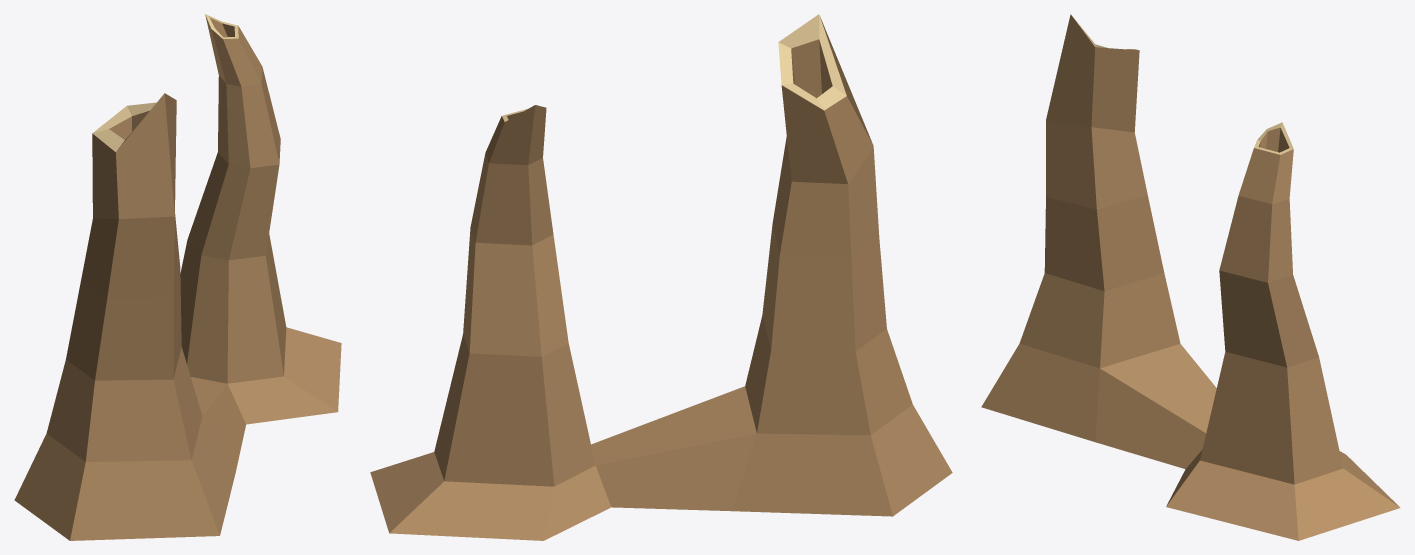
Rendered from biome-rock03.fbx.
The picture shows the model from 3 angles, left to right: view 1: azimuth 30°, elevation 25°; view 2: azimuth 150°, elevation 25°; view 3: azimuth 270°, elevation 25°; orthographic projection. The views are drawn at different scales.
Parts seen in each view (by area): view 1: Icosphere; view 2: Icosphere; view 3: Icosphere.
Boxes of the visible parts, x1,y1,x2,y2 form: Icosphere: (14, 14, 341, 540); Icosphere: (370, 14, 952, 540); Icosphere: (981, 14, 1400, 540).
Bounding box in the file's own units: 103 × 99.56 × 97.21.
